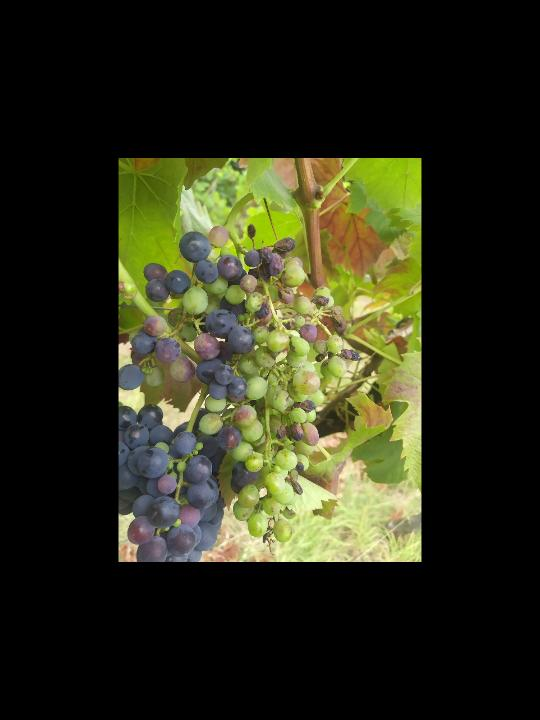grape: (121, 224, 359, 547)
